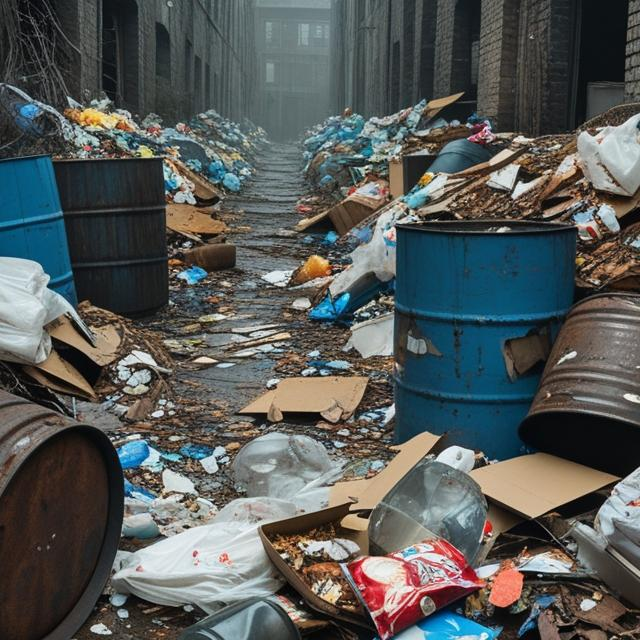metal: (401, 223, 557, 430), (51, 163, 167, 308)
plastic: (357, 557, 467, 611)
